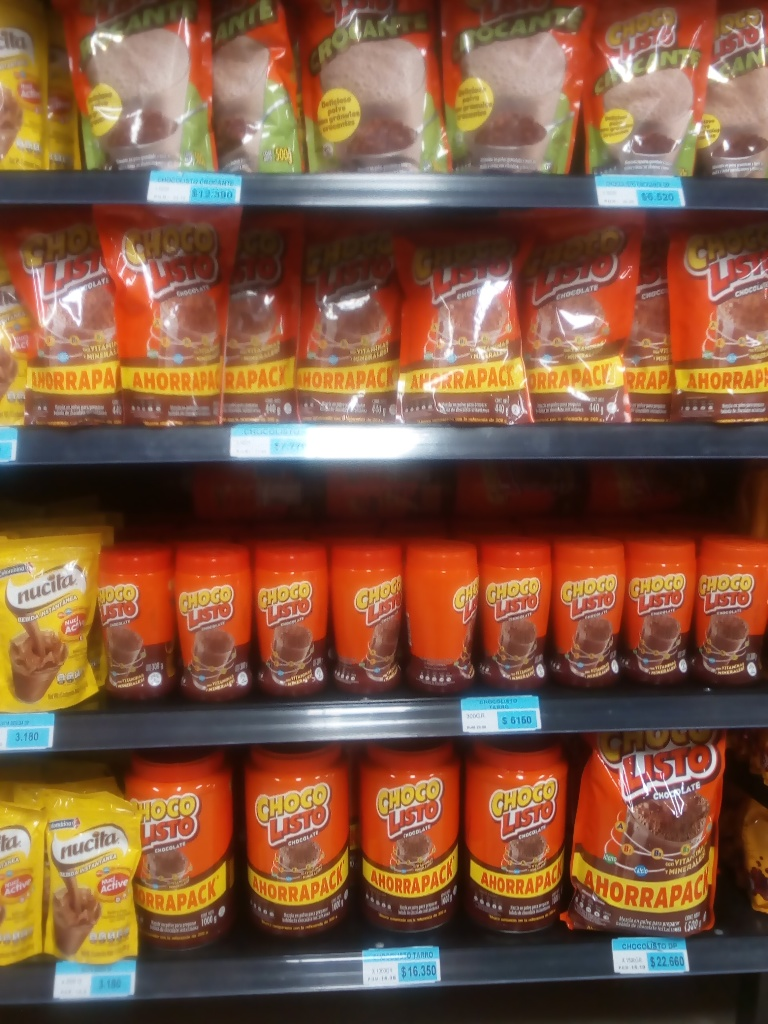COL0170102DYP50000: (58, 1, 215, 171)
COL0170103DYP1,500: (572, 732, 727, 938)
COL0170103DYP44000: (6, 218, 126, 426)
COL0170103TRR00100: (130, 758, 237, 960)
COL0170103TRR30000: (93, 544, 177, 702)
